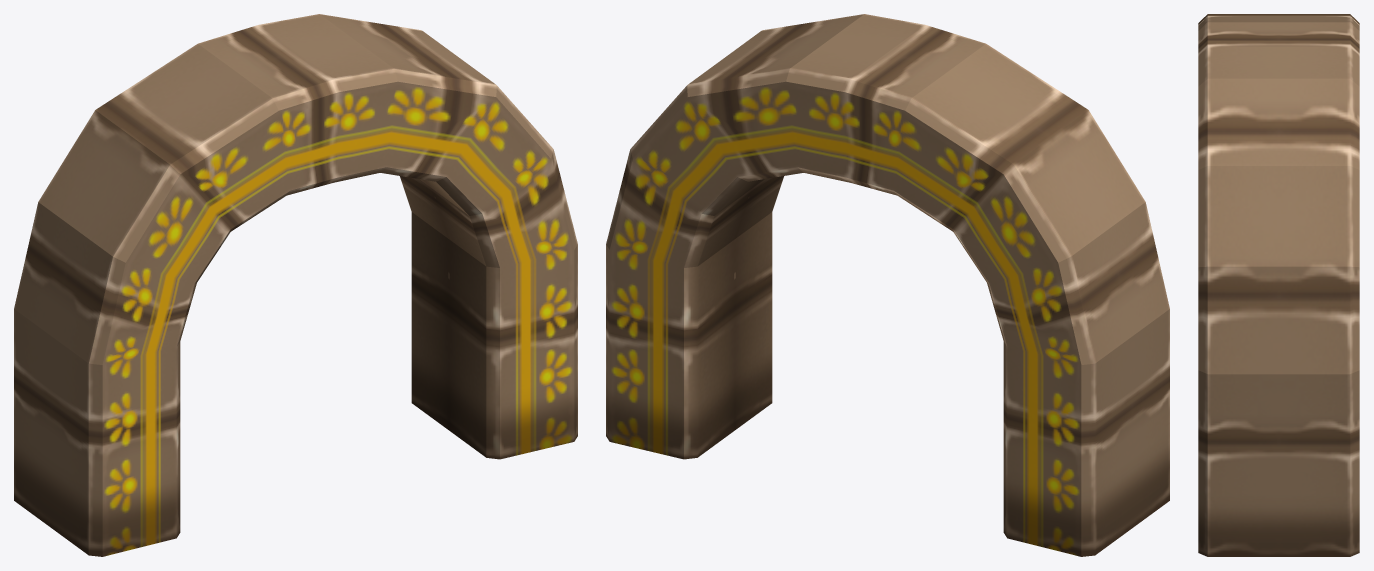
File: Gate_01.FBX
The picture shows the model from 3 angles, left to right: view 1: azimuth 30°, elevation 25°; view 2: azimuth 150°, elevation 25°; view 3: azimuth 270°, elevation 25°; orthographic projection. The views are drawn at different scales.
Parts seen in each view (by area): view 1: Gate_01; view 2: Gate_01; view 3: Gate_01.
Part boxes in pixels (x1,y1,x2,y2): Gate_01: [14, 14, 577, 556]; Gate_01: [606, 14, 1169, 556]; Gate_01: [1198, 14, 1359, 556].
Bounding box in the file's own units: 0.8647 × 0.7031 × 0.2597.
